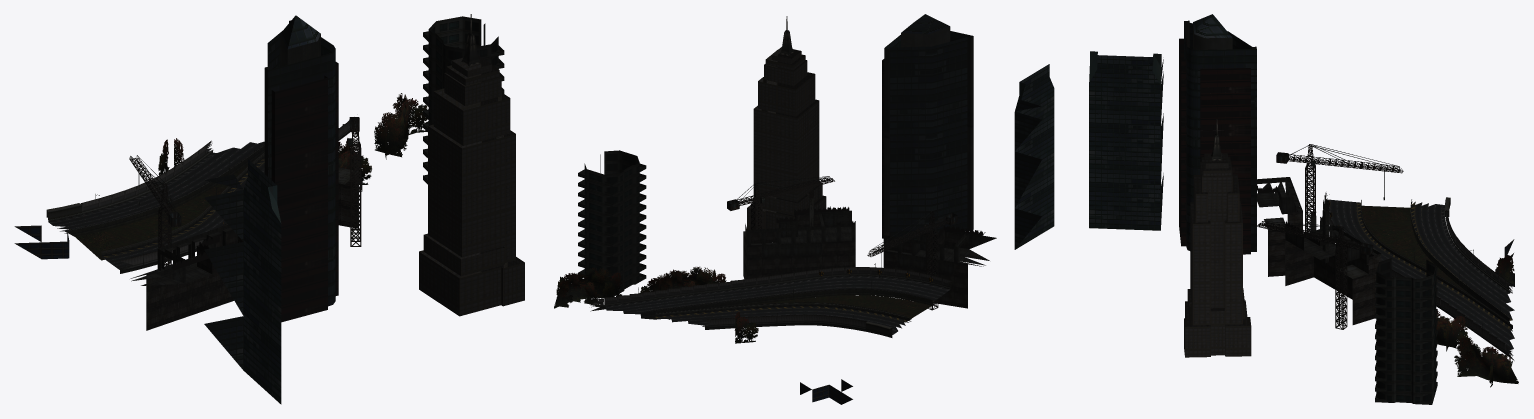
Rendered from cell_5_3.gltf.
3 views of the same model, side by side, from view 1: azimuth 30°, elevation 25°; view 2: azimuth 150°, elevation 25°; view 3: azimuth 270°, elevation 25° (orthographic). The views are drawn at different scales.
Parts seen in each view (by area): view 1: cell_5_3; view 2: cell_5_3; view 3: cell_5_3.
Part boxes in pixels (x1,y1,x2,y2): cell_5_3: [14, 14, 524, 404]; cell_5_3: [554, 14, 1054, 404]; cell_5_3: [1089, 14, 1518, 404].
Size of the model in its own units: 244 by 190 by 257.
Materials: 38 (38 with a texture image).
